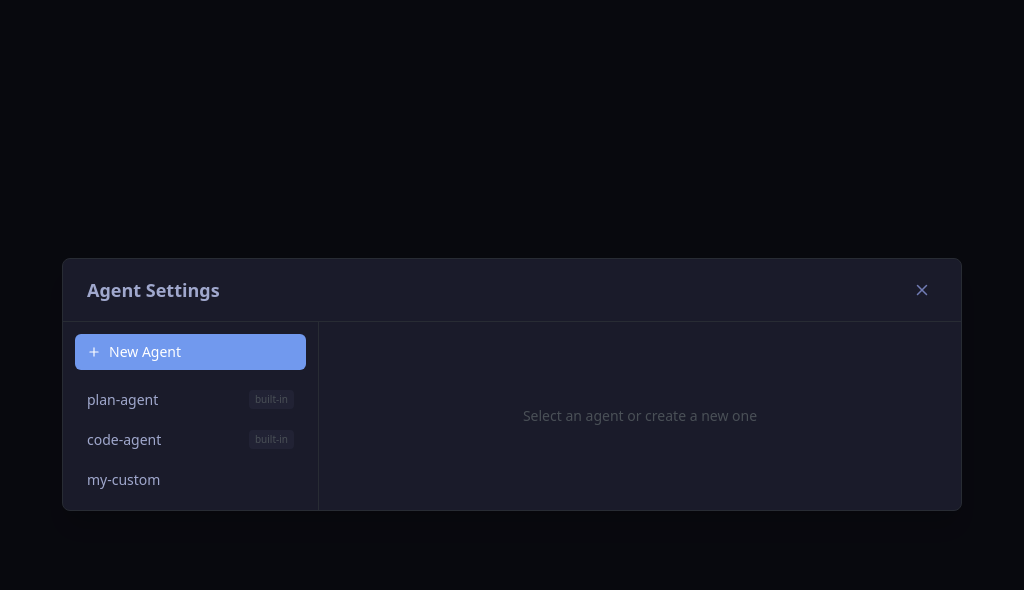
AgentSettingsDialog › should show agent details form when an agent is selected
Click the text "plan-agent".
click(123, 400)  # box [87,390,158,410]
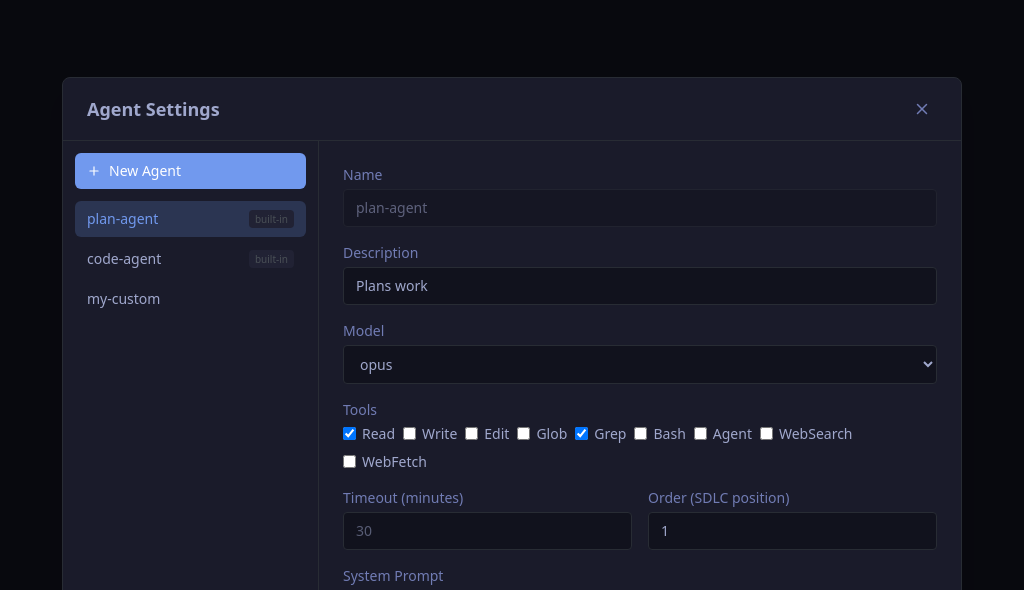
Expected: the field with test id "agent-name-input" is shown, [343,189,937,227]
